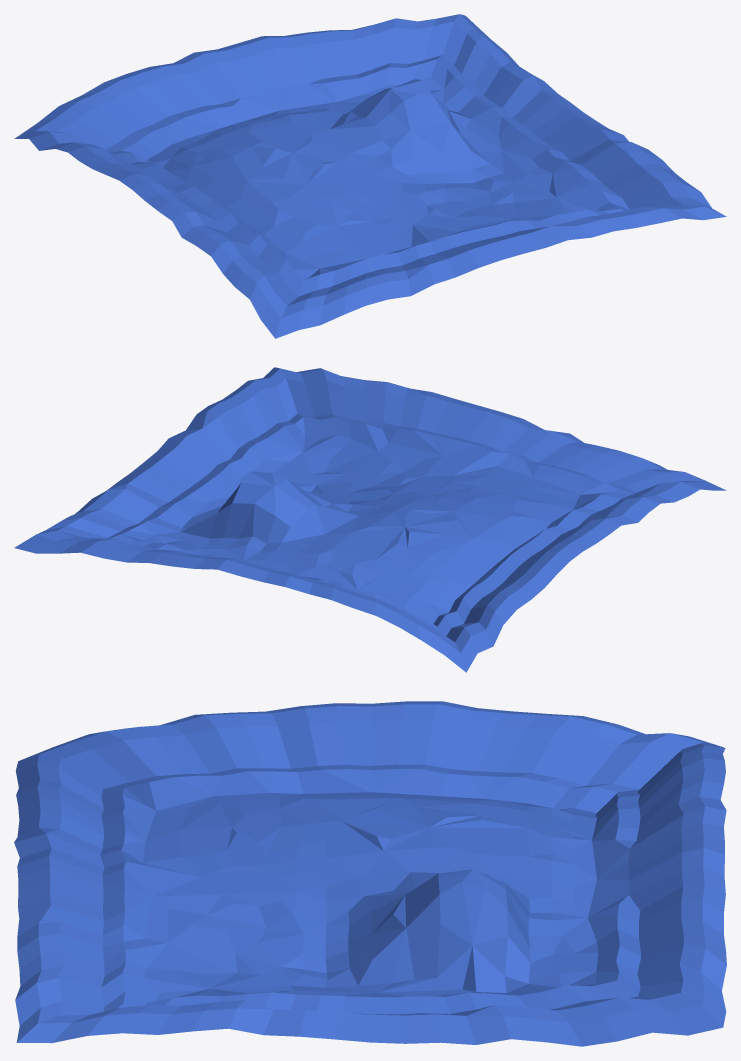
File: Floor.FBX
The picture shows the model from 3 angles, top to bottom: view 1: azimuth 30°, elevation 25°; view 2: azimuth 150°, elevation 25°; view 3: azimuth 270°, elevation 25°; orthographic projection. The views are drawn at different scales.
Visible parts, largest first — view 1: Plane001; view 2: Plane001; view 3: Plane001.
Part boxes in pixels (x1,y1,x2,y2): Plane001: [14, 14, 726, 338]; Plane001: [14, 367, 726, 672]; Plane001: [14, 701, 726, 1046].
Size of the model in its own units: 3160 by 442 by 3160.
